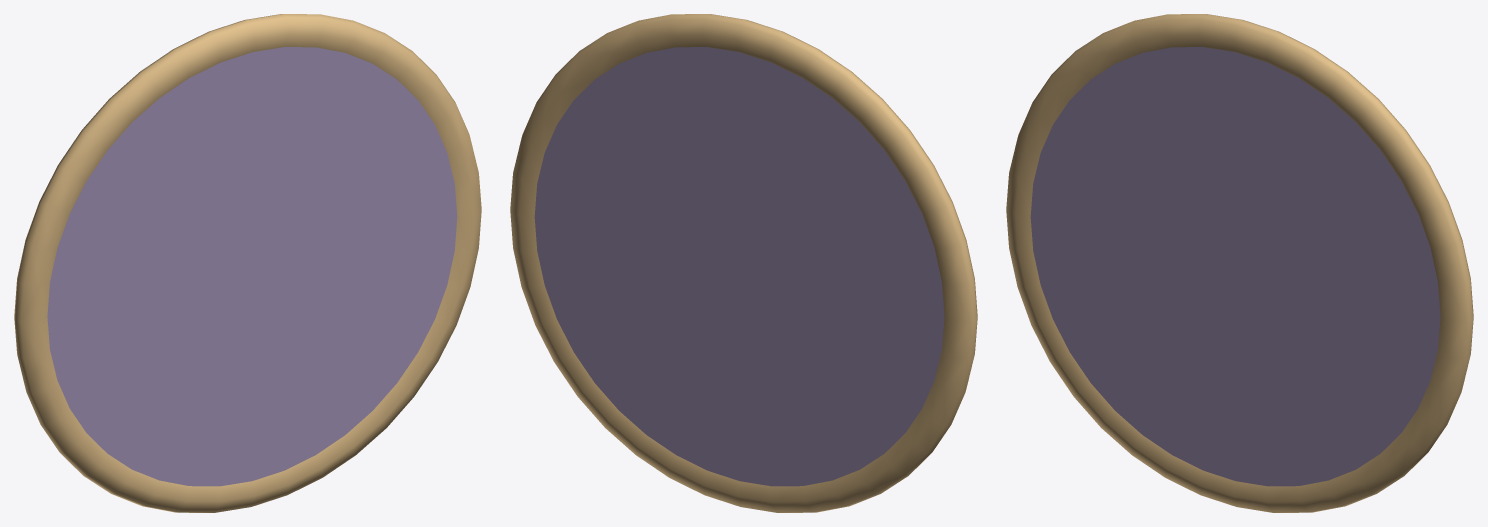
Rendered from spiral-disc.glb.
3 views of the same model, side by side, from view 1: azimuth 30°, elevation 25°; view 2: azimuth 150°, elevation 25°; view 3: azimuth 330°, elevation 25° (orthographic).
Visible parts, largest first — view 1: spiral_disc; view 2: spiral_disc; view 3: spiral_disc.
Boxes of the visible parts, box(x1,y1,x2,y2) form: spiral_disc: box(14, 14, 481, 512); spiral_disc: box(510, 14, 977, 512); spiral_disc: box(1006, 14, 1473, 512).
Bounding box in the file's own units: 0.92 × 0.92 × 0.046.
